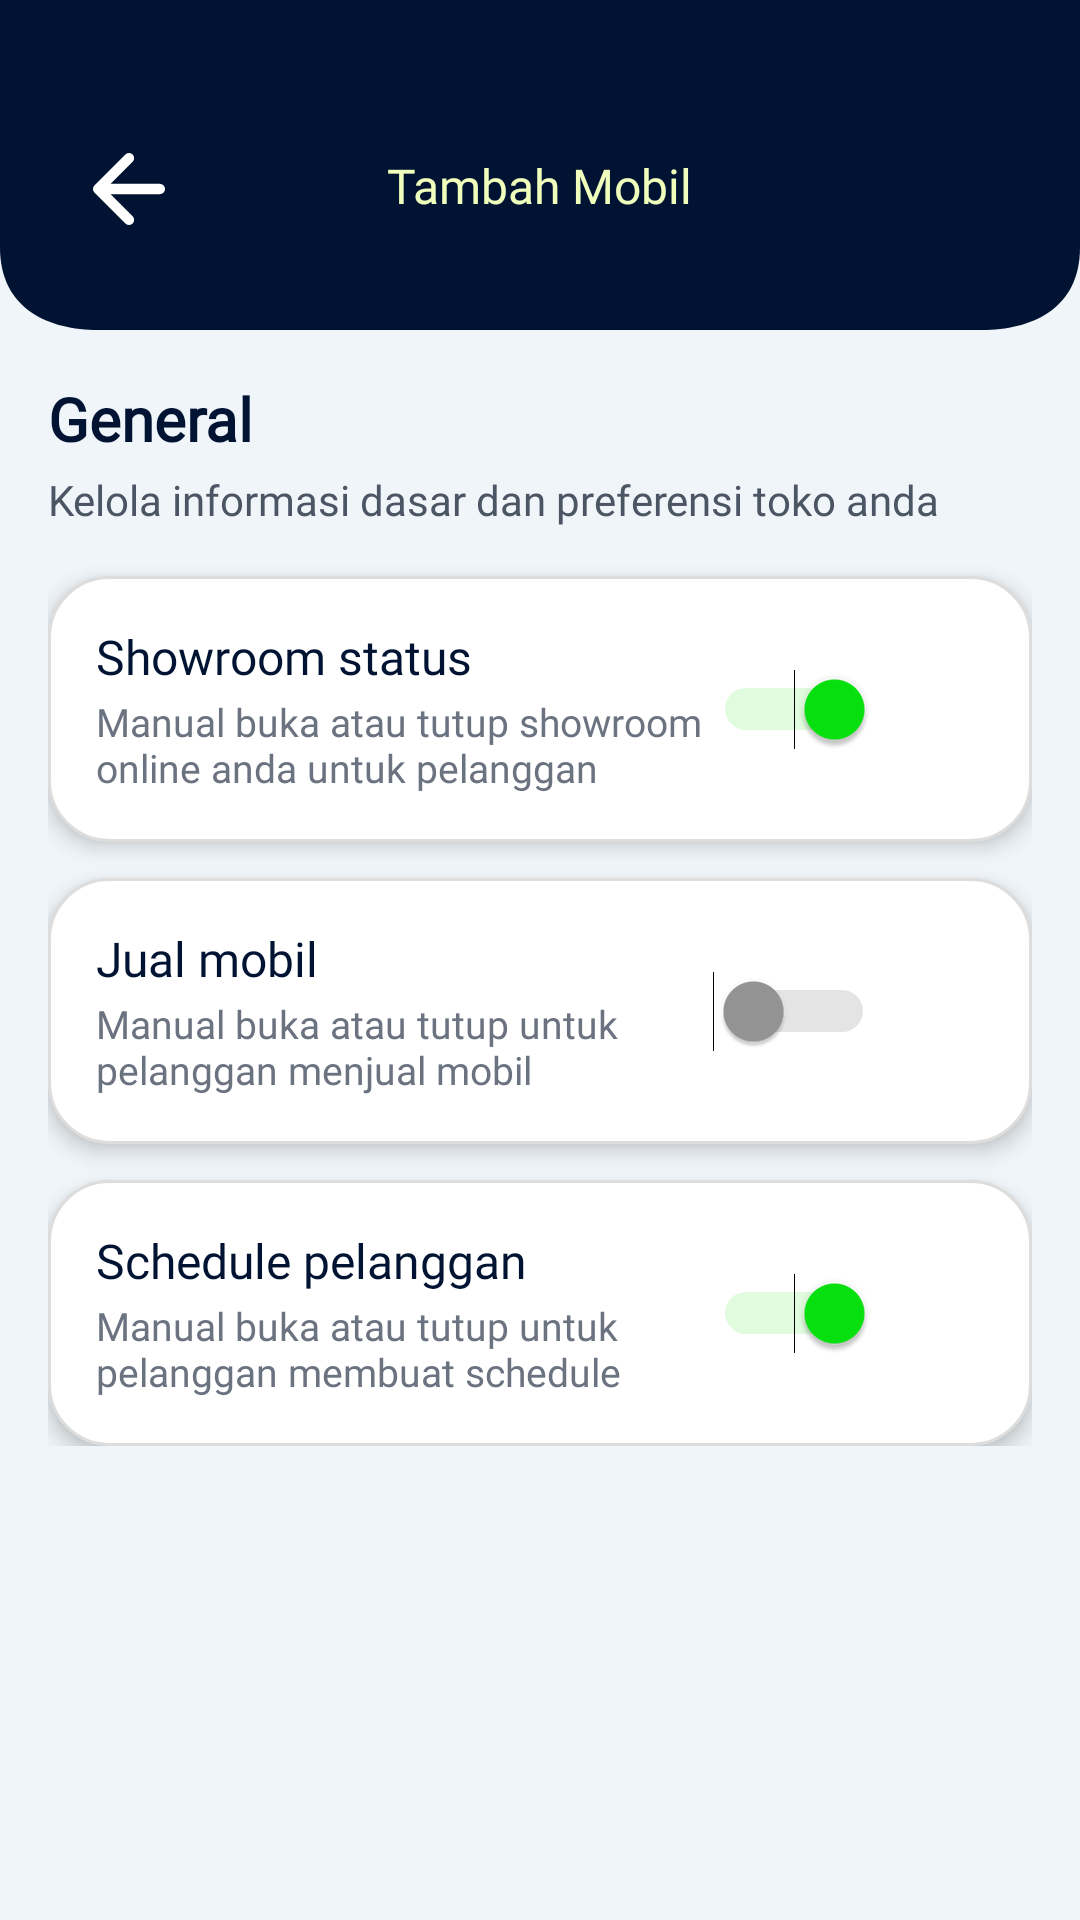

Icon click points for this 1080px x 1920px phone screenshot, format (x,y):
back: (129,189)
